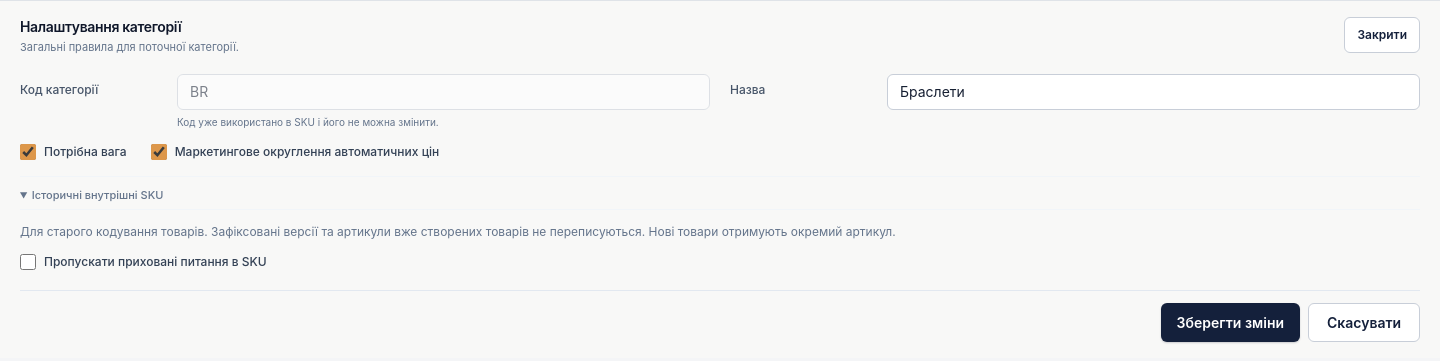
disables a used category code and keeps native historical settings collapsed until opened
The width and height of the screenshot is (1440, 361).
Expected: the field labelled "Код категорії" is disabled, [177,74,710,110]
Expected: the field labelled "Код категорії" holds "BR", [177,74,710,110]
Click the checkbox labelled "Пропускати приховані питання в SKU".
click(28, 262)  # box [20,254,36,270]
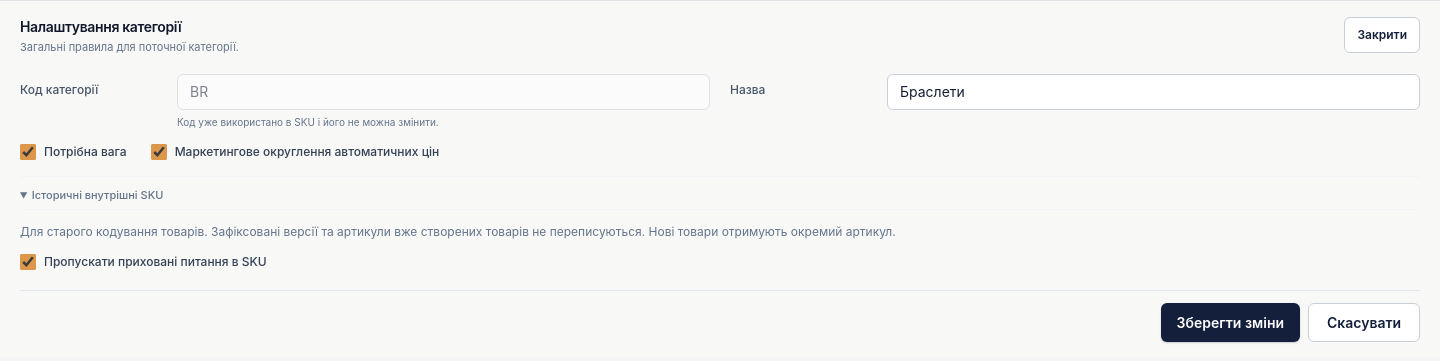
Click the button "Зберегти зміни".
click(1230, 322)  # box [1160,303,1300,342]
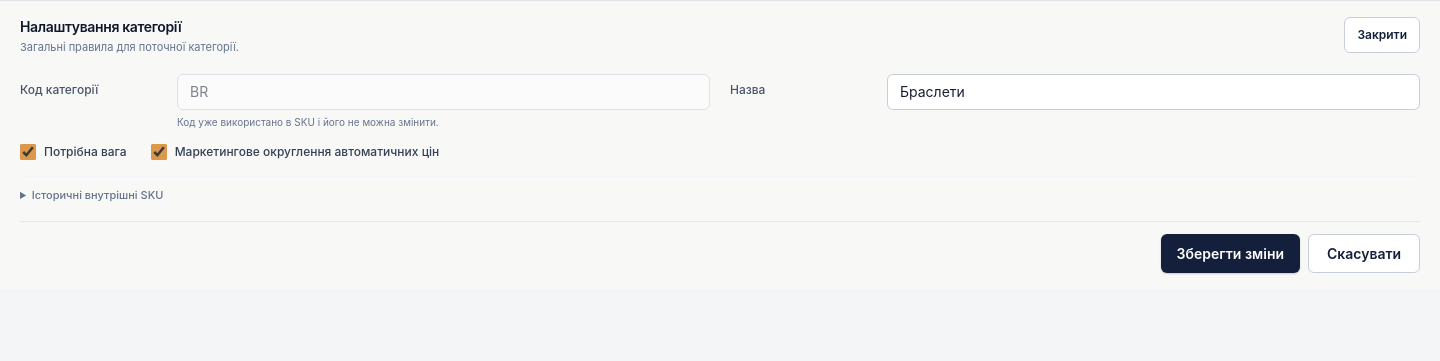
Result: the label "Пропускати приховані питання в SKU" is gone
